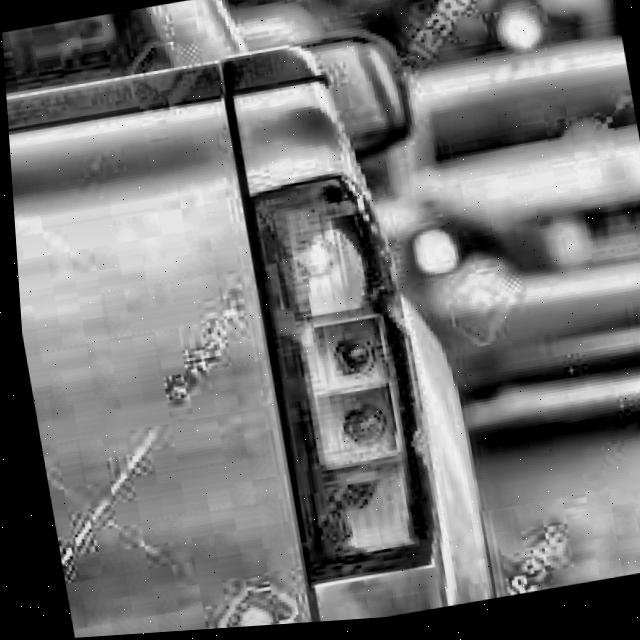tail_lamp: (298, 312, 432, 561)
